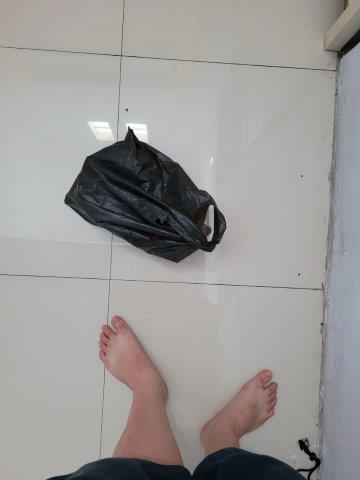plastik: (64, 129, 227, 266)
